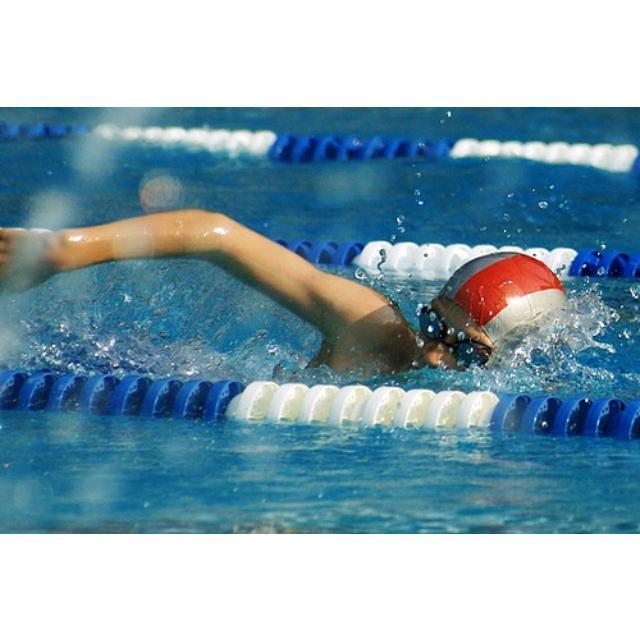human: (1, 205, 615, 385)
